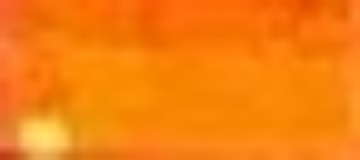Hotspot: (19, 113, 78, 155)
